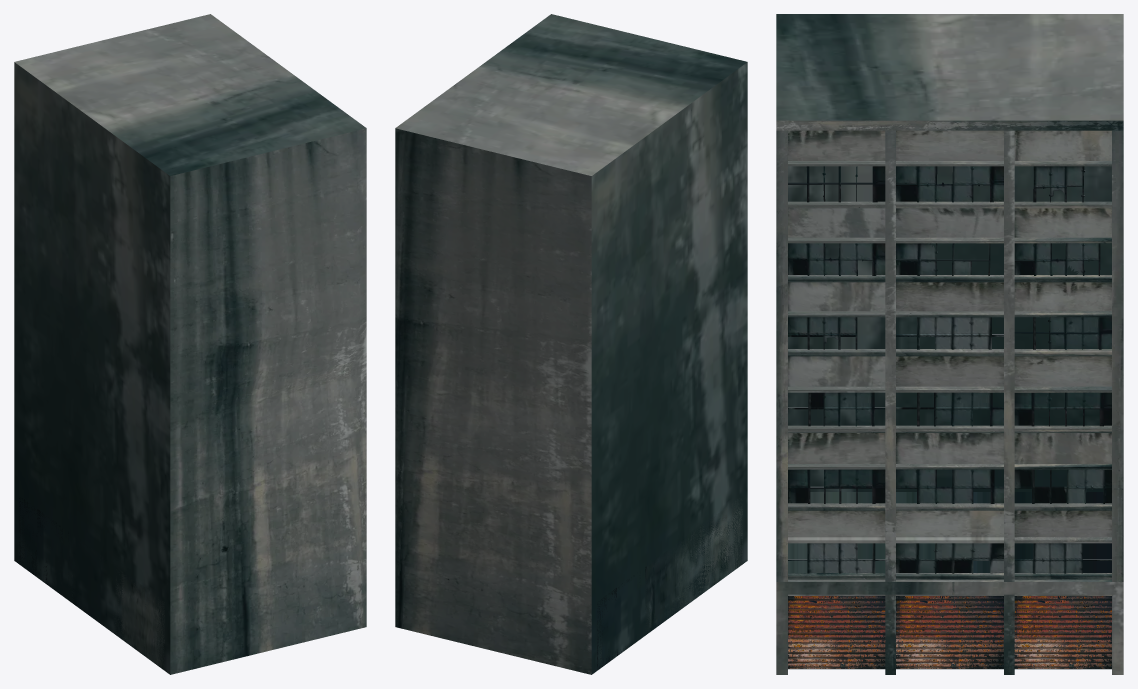
File: abandoned-building.lod0.glb
3 views of the same model, side by side, from view 1: azimuth 30°, elevation 25°; view 2: azimuth 150°, elevation 25°; view 3: azimuth 270°, elevation 25° (orthographic). The views are drawn at different scales.
Visible parts, largest first — view 1: Cube_Material.002_0; view 2: Cube_Material.002_0; view 3: Cube_Material.002_0, 1_Door1_0.
Part boxes in pixels (<box>): Cube_Material.002_0: <box>14,14,366,674</box>; Cube_Material.002_0: <box>395,14,747,674</box>; Cube_Material.002_0: <box>776,14,1123,674</box>; 1_Door1_0: <box>788,596,1111,668</box>.
Bounding box in the file's own units: 5.36 × 13 × 7.37.
Materials: 2 (2 with a texture image).
